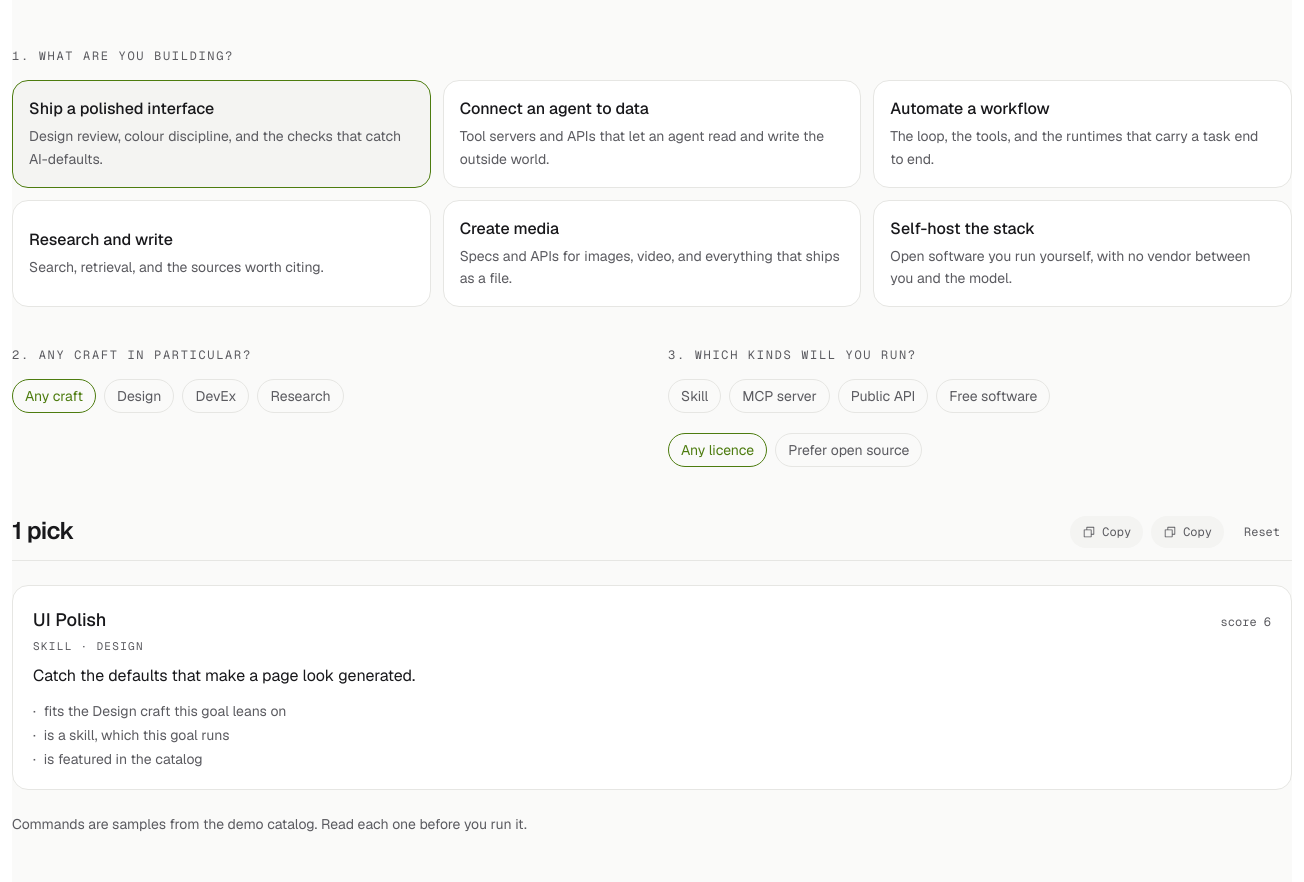
Scenario: StackChooser › surfaces a kind when the reader says they will run it
Check: the link "Data Bridge" is not shown
Click the button "MCP server".
click(780, 396)  # box x1=729 y1=379 x2=830 y2=413
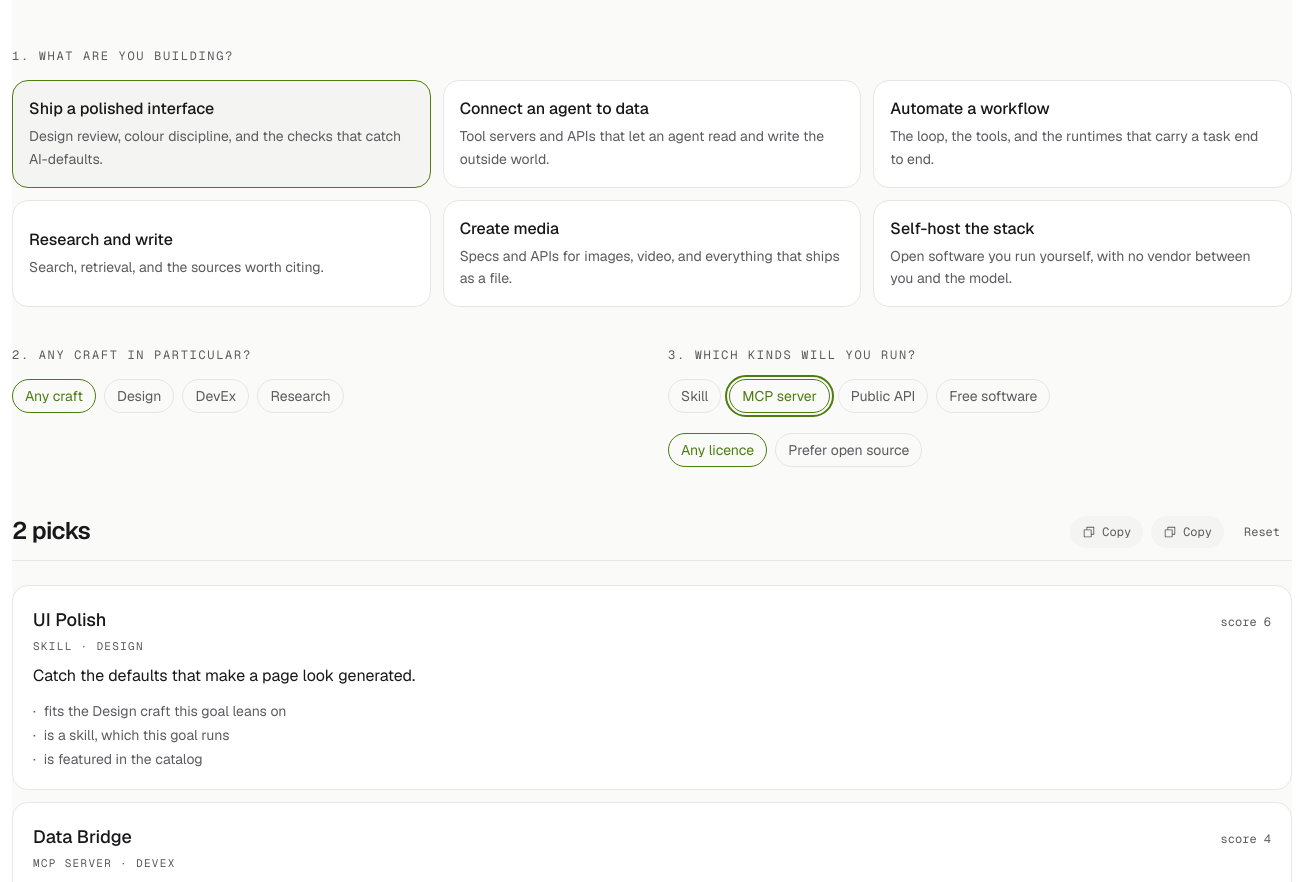
Check: the link "Data Bridge" is shown, box x1=33 y1=822 x2=132 y2=850
